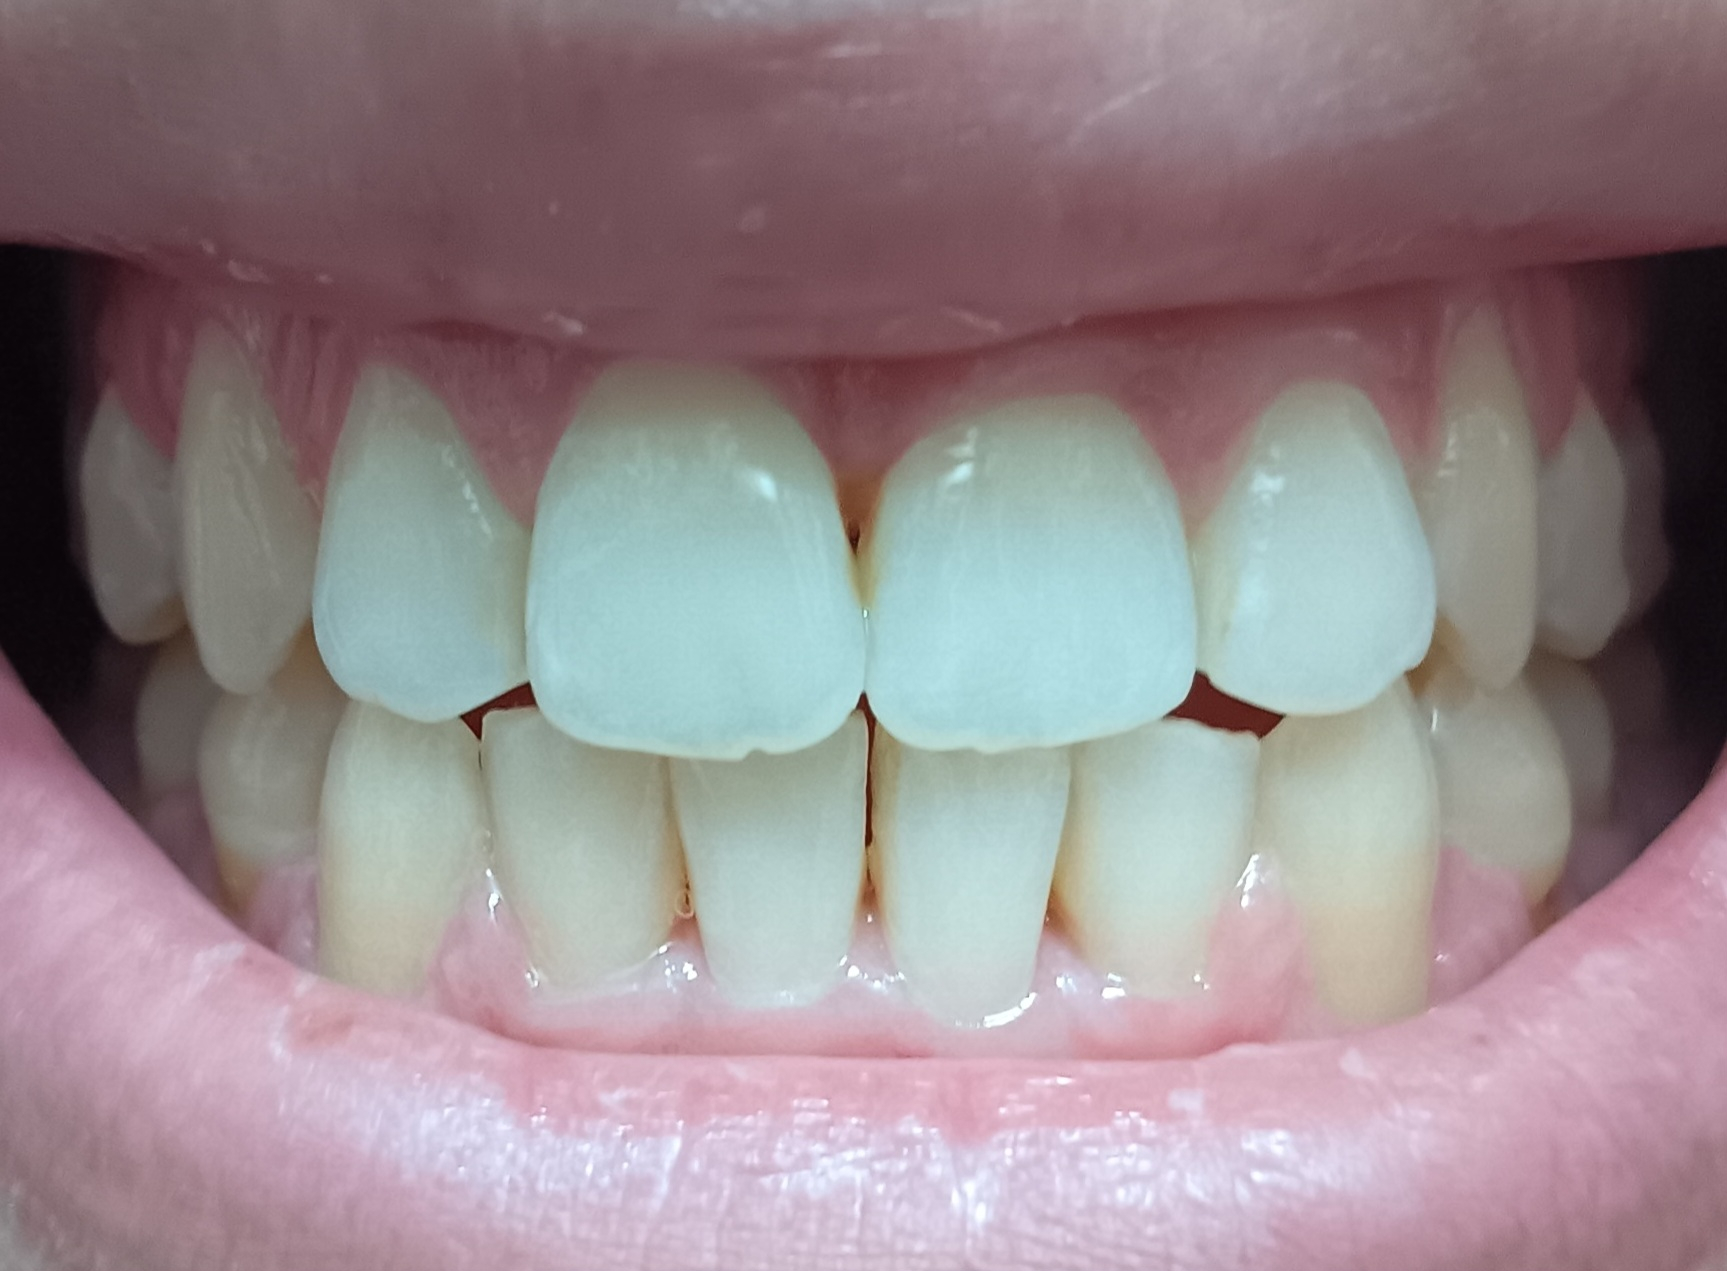teeth: (544, 361, 857, 717), (873, 421, 1187, 724), (323, 374, 515, 709), (1049, 723, 1255, 993), (1213, 391, 1413, 668), (1286, 680, 1429, 1028), (674, 716, 855, 979), (319, 712, 480, 997), (900, 749, 1066, 1022), (493, 721, 657, 983), (209, 332, 308, 684), (1432, 326, 1508, 680)
